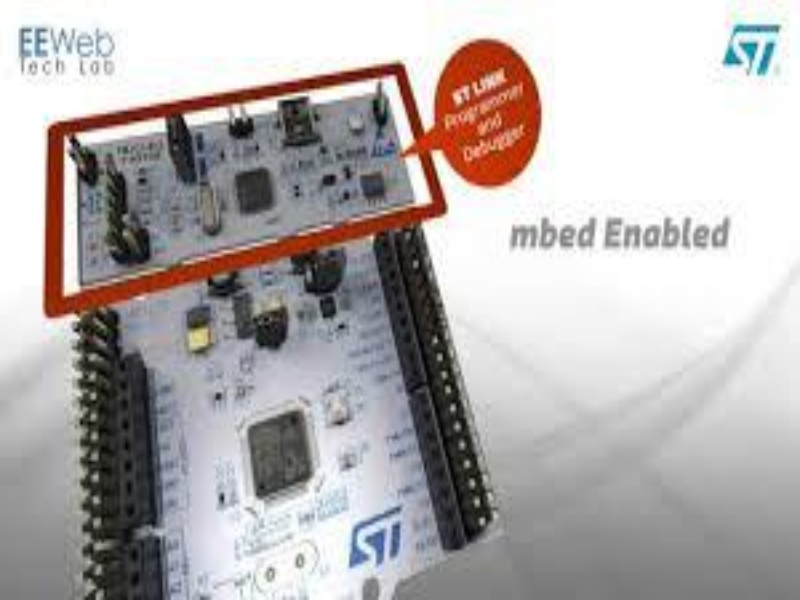stmnucleo: (42, 67, 515, 578)
